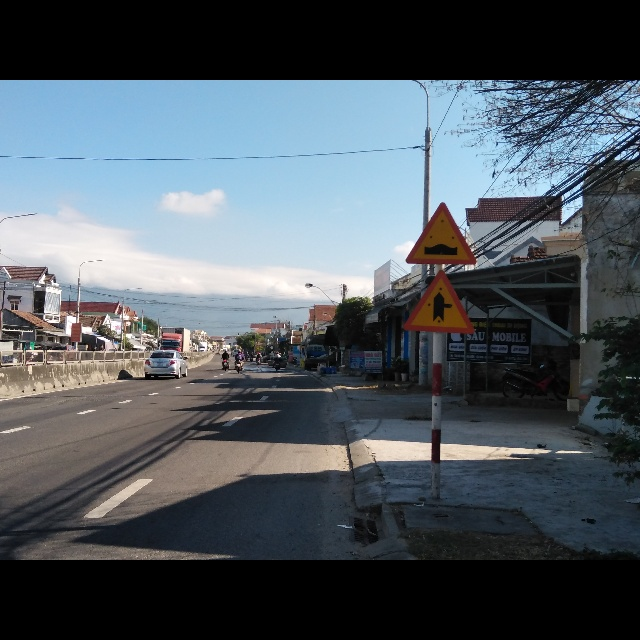Giao nhau với đường không ưu tiên: (402, 269, 477, 333)
Đường không bằng phẳng: (406, 201, 476, 266)
